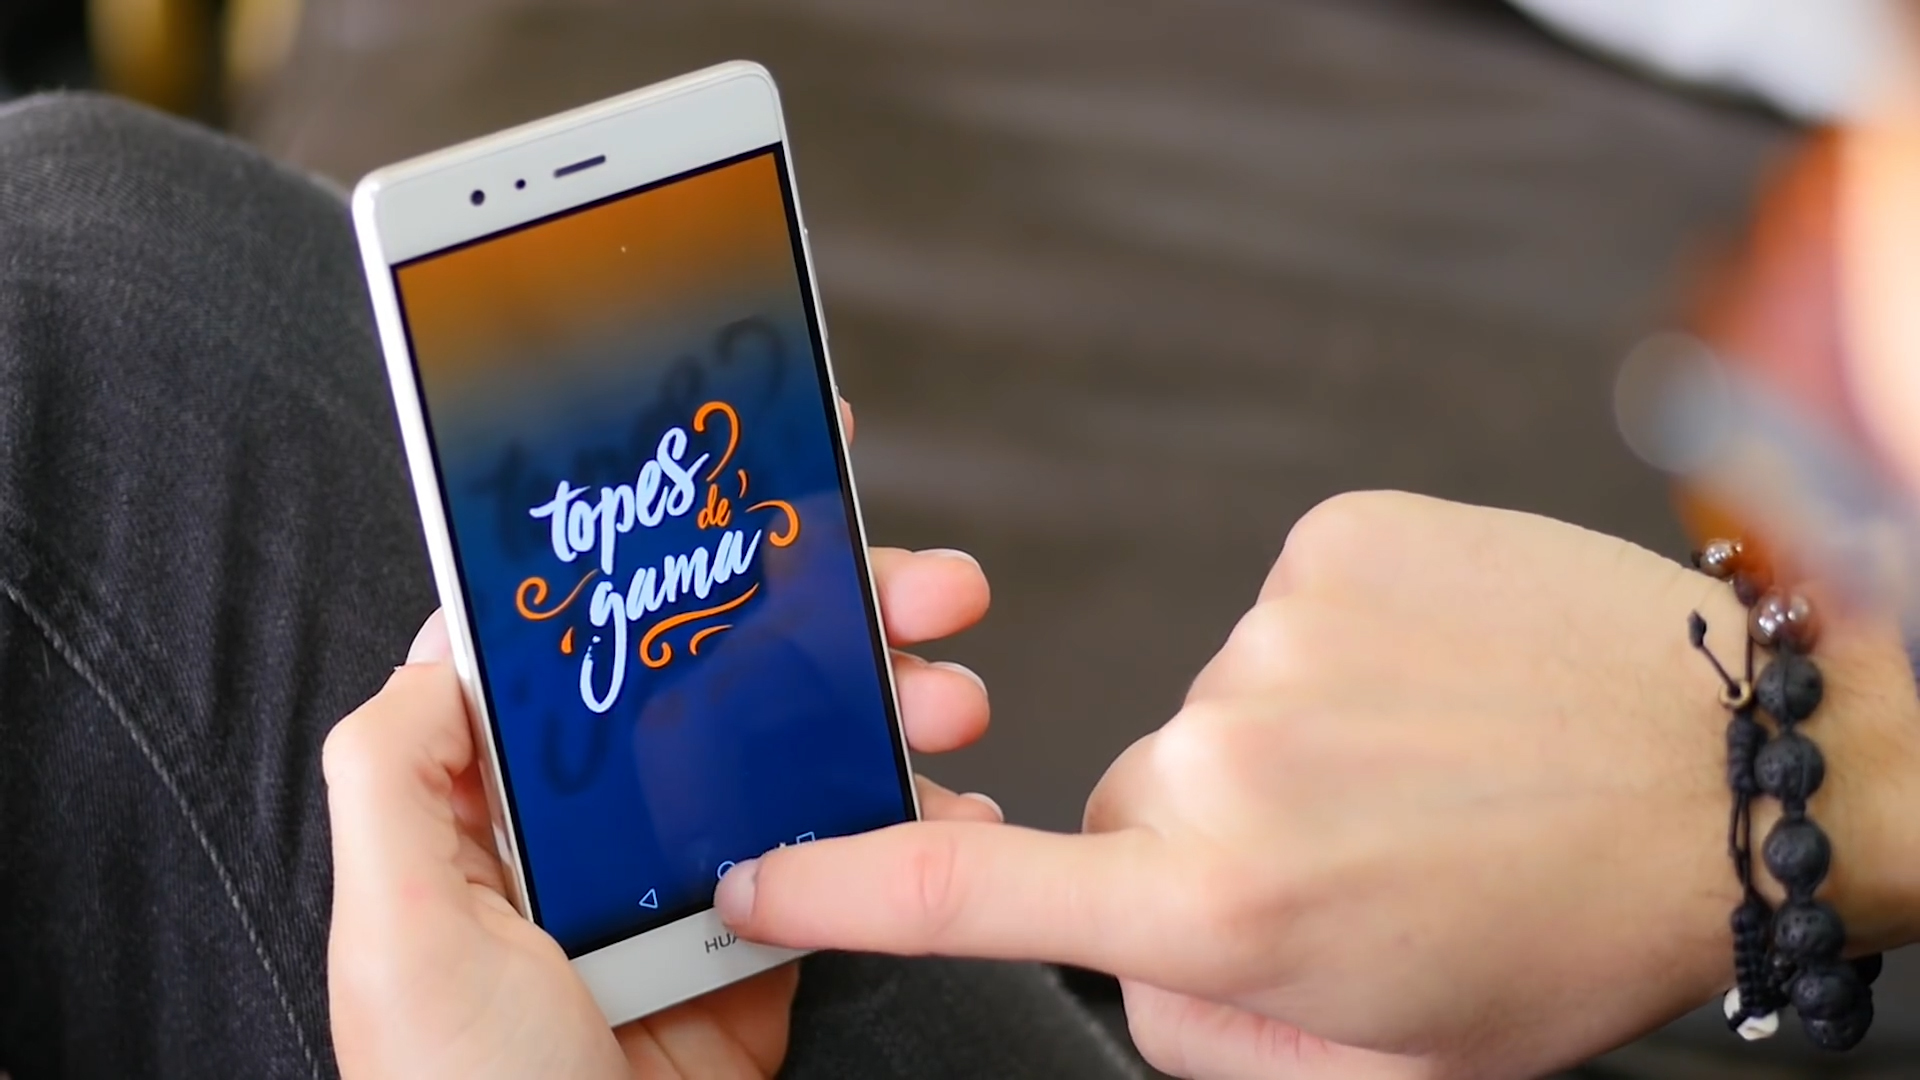smartphone: (344, 49, 943, 1042)
